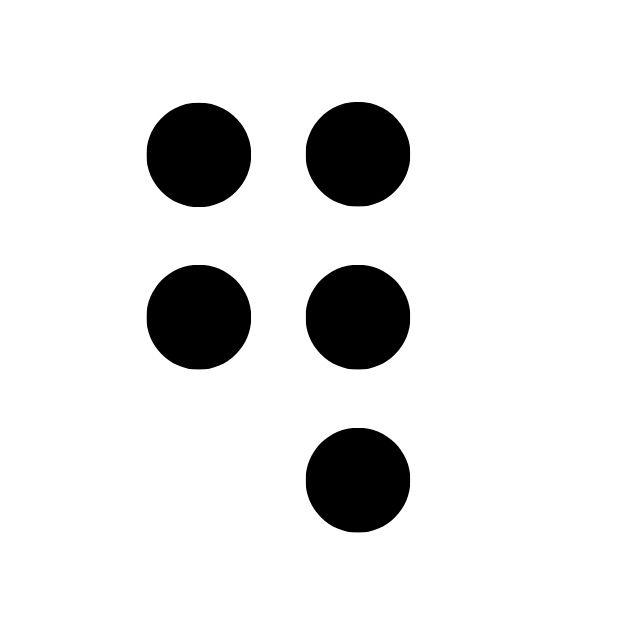er: (146, 106, 411, 533)
